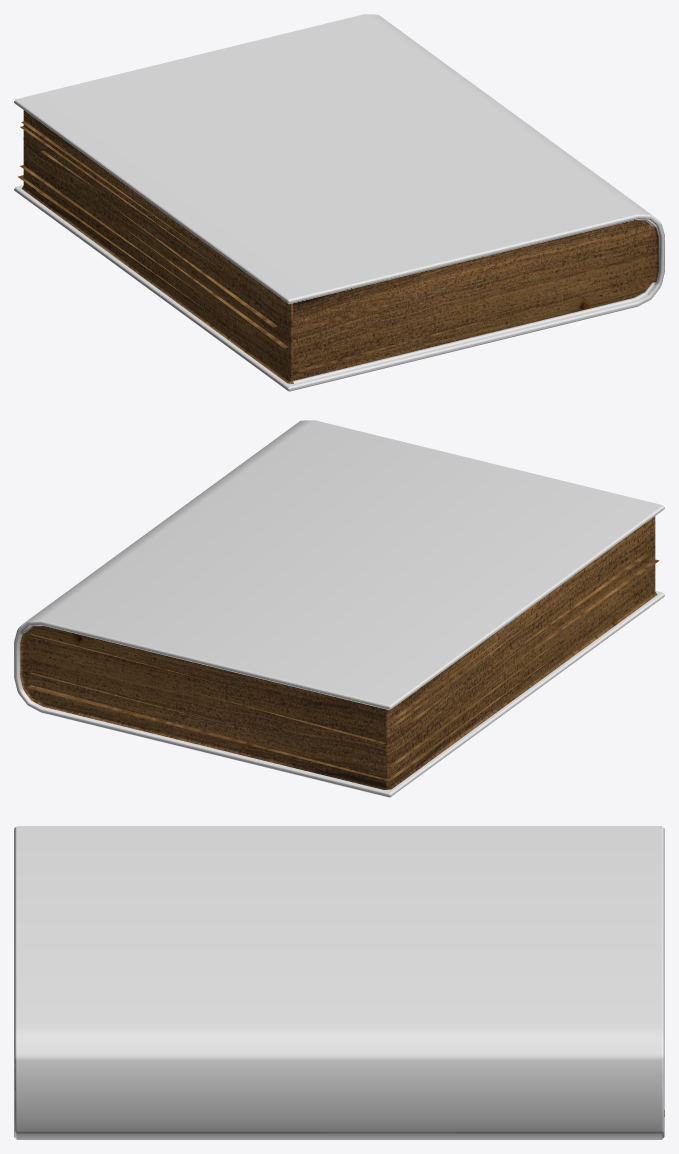
File: Ina_Book_fbx.fbx
The picture shows the model from 3 angles, top to bottom: view 1: azimuth 30°, elevation 25°; view 2: azimuth 150°, elevation 25°; view 3: azimuth 270°, elevation 25°; orthographic projection. The views are drawn at different scales.
Visible parts, largest first — view 1: Book; view 2: Book; view 3: Book.
Part boxes in pixels (<box>): Book: <box>14,14,664,391</box>; Book: <box>14,420,664,797</box>; Book: <box>14,826,664,1139</box>.
Size of what is drawn, in the model's own units: 158 by 37.22 by 200.
